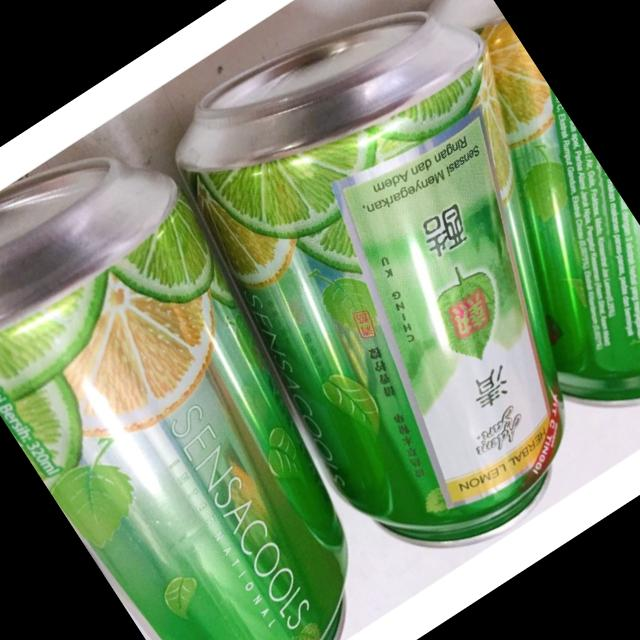ademsarikaleng: (115, 0, 640, 597)
